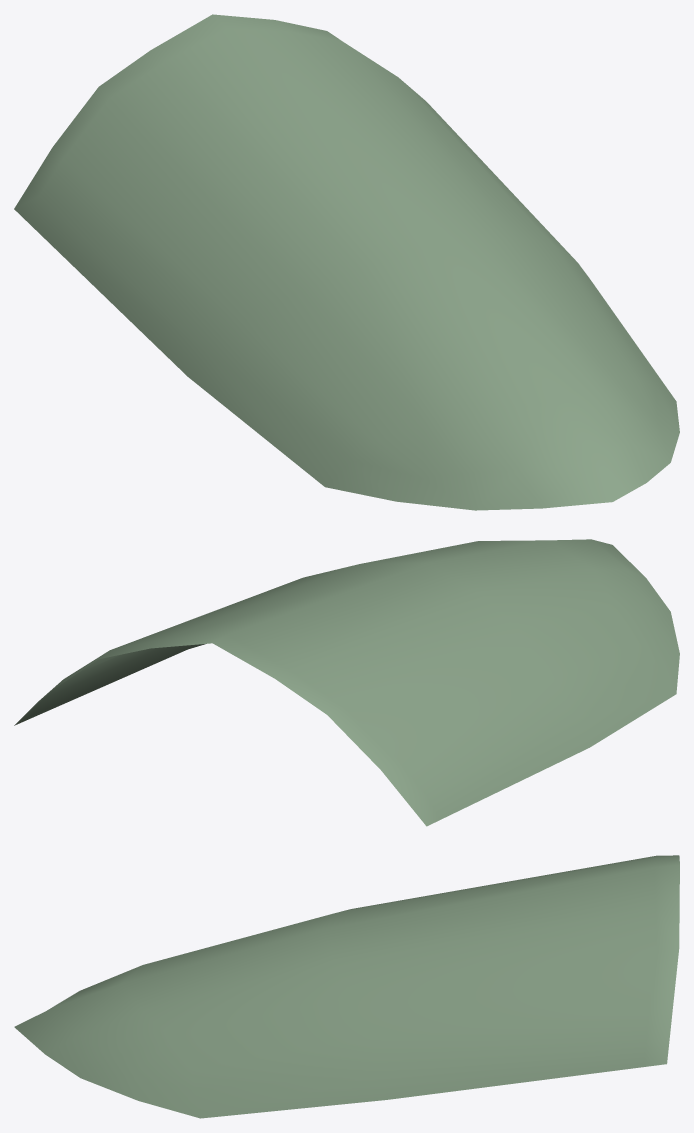
File: windshield.fbx
3 renders of one model, top to bottom at view 1: azimuth 30°, elevation 25°; view 2: azimuth 150°, elevation 25°; view 3: azimuth 270°, elevation 25°, orthographic. The views are drawn at different scales.
Parts seen in each view (by area): view 1: windshield; view 2: windshield; view 3: windshield.
Part boxes in pixels (x1,y1,x2,y2): windshield: (14,14,679,510); windshield: (14,539,679,826); windshield: (14,855,679,1118).
Size of the model in its own units: 0.8732 by 0.4427 by 1.47.
